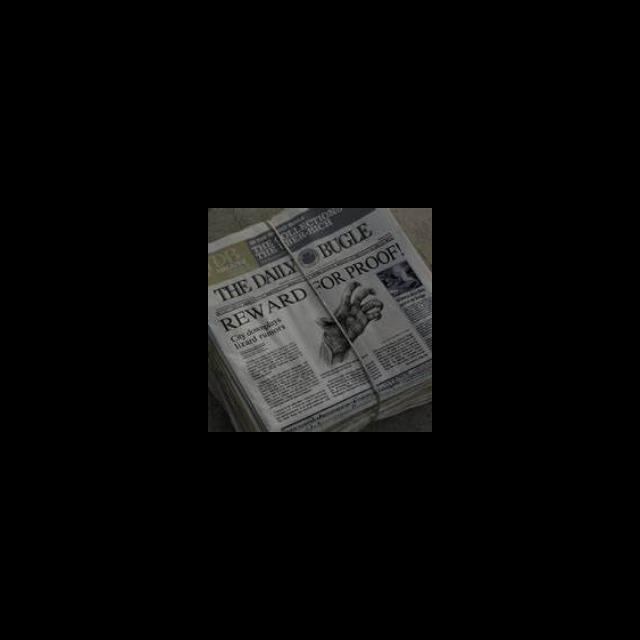paper: (208, 208, 431, 431)
